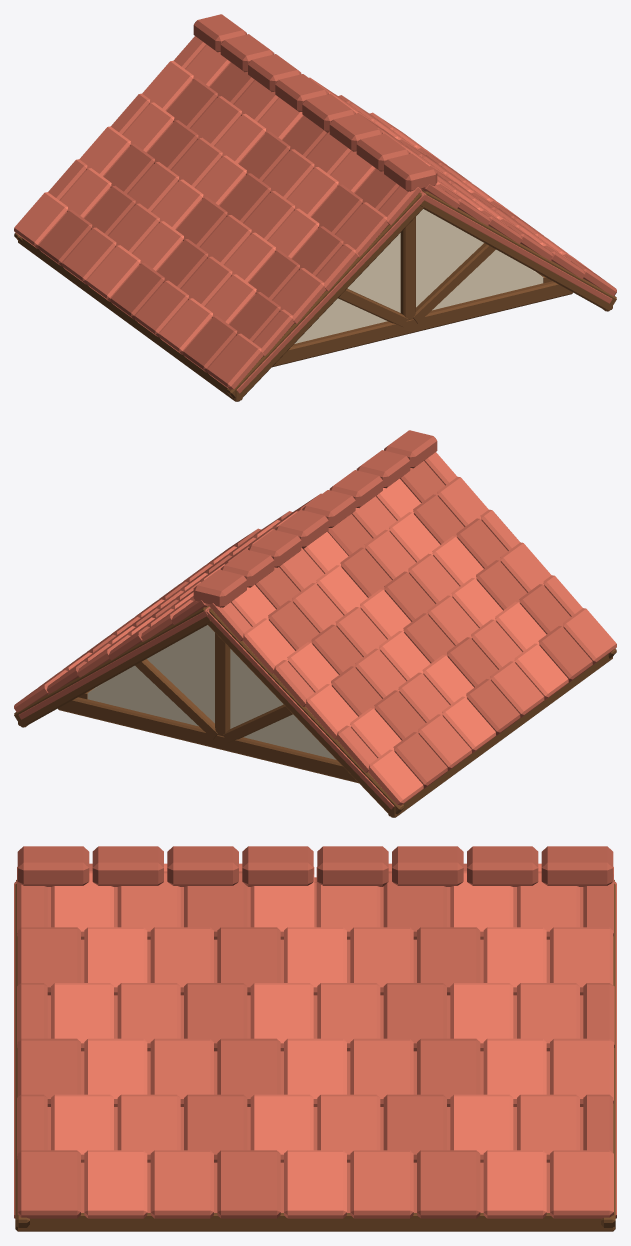
File: roof_gable_3x3.glb
3 renders of one model, top to bottom at view 1: azimuth 30°, elevation 25°; view 2: azimuth 150°, elevation 25°; view 3: azimuth 270°, elevation 25°, orthographic. The views are drawn at different scales.
Parts seen in each view (by area): view 1: roof_gable_3x3; view 2: roof_gable_3x3; view 3: roof_gable_3x3.
Boxes of the visible parts, x1,y1,x2,y2 form: roof_gable_3x3: [14, 14, 616, 401]; roof_gable_3x3: [14, 430, 616, 817]; roof_gable_3x3: [14, 846, 616, 1231].
Bounding box in the file's own units: 3.68 × 1.65 × 3.58.
